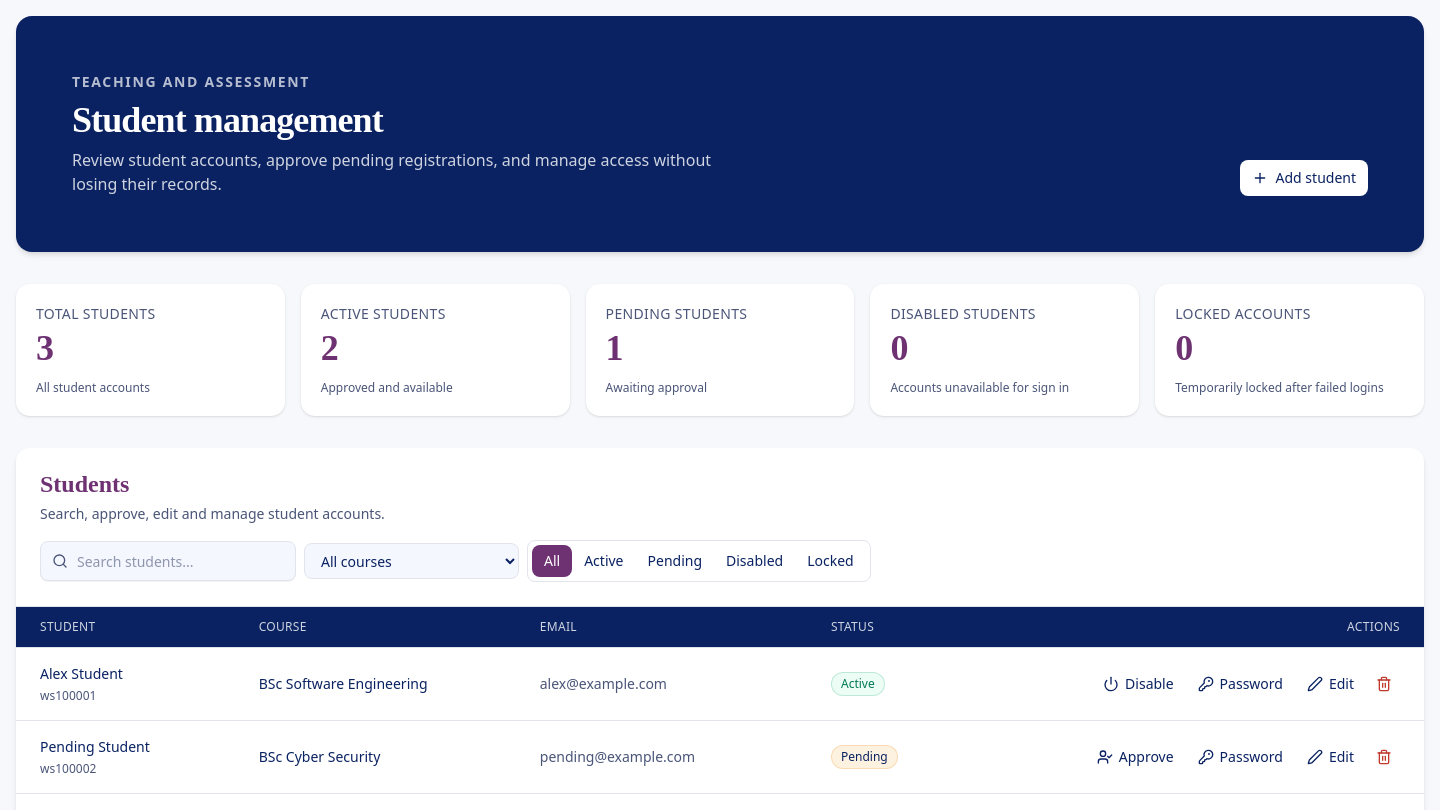
Test: StudentsPage › filters students by search, course, and account status
The width and height of the screenshot is (1440, 810).
Expected: the text "Alex Student" is shown, [40,664,123,683]
Select "BSc Software Engineering" in the dropdown named "Filter students by course". click: x=412, y=561
box: [304,543,519,579]
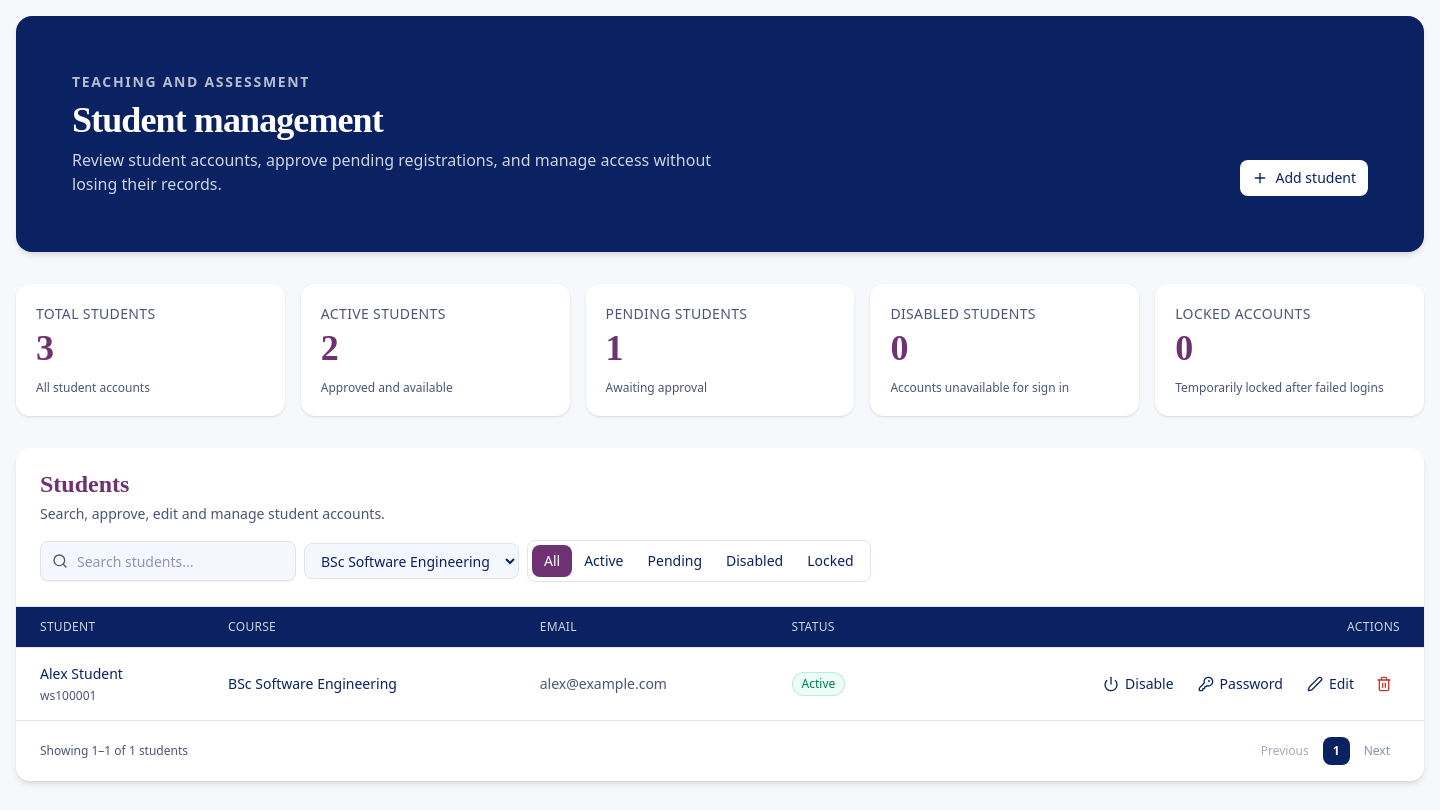
Expected: the text "Alex Student" is shown, [40,664,123,683]
Expected: the text "NoCourse Student" is not shown
Select "Unassigned" in the dropdown named "Filter students by course". click: x=412, y=561
box: [304,543,519,579]
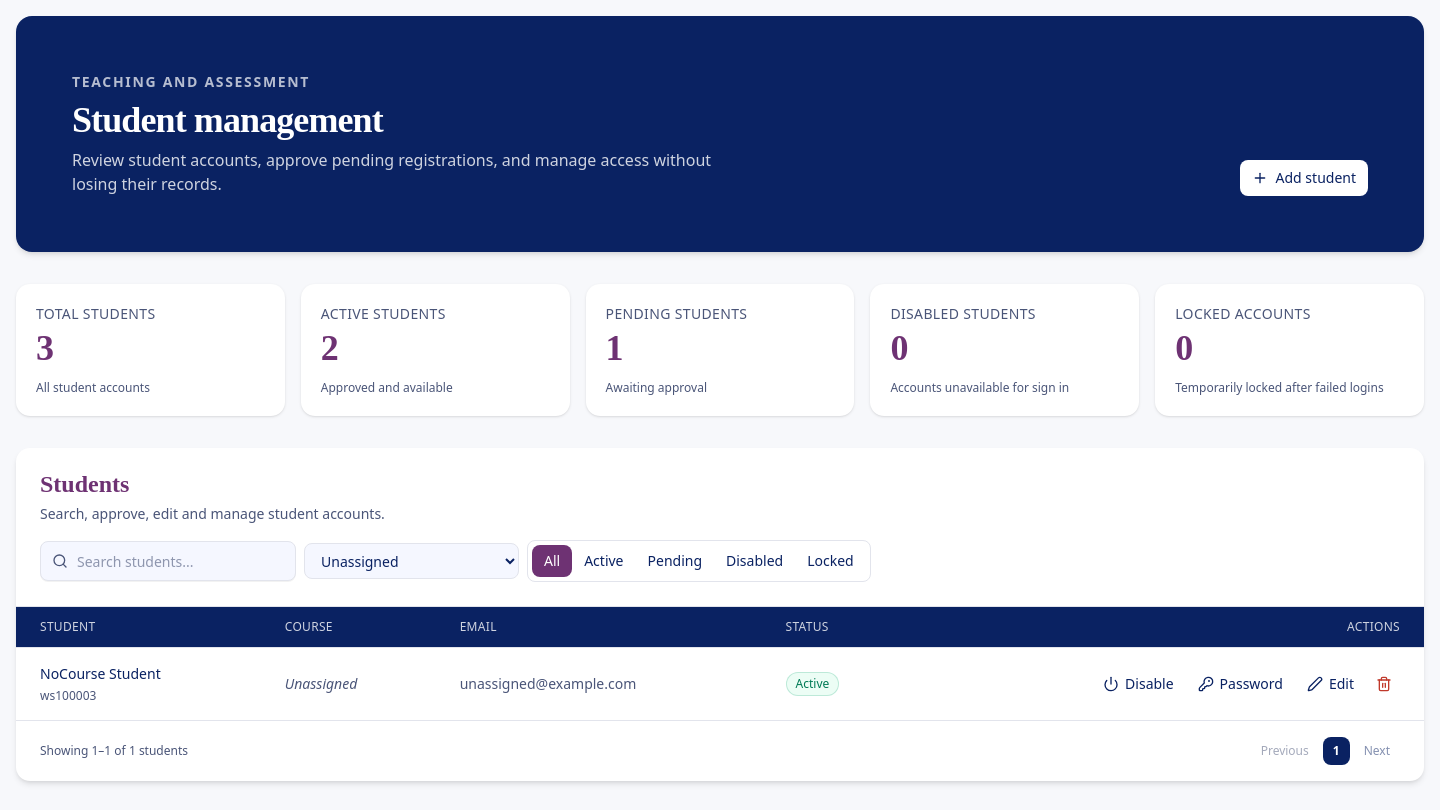
Now the text "Alex Student" is gone
Now the text "NoCourse Student" is shown, box [40,664,161,683]
Select "All courses" in the dropdown named "Filter students by course". click: x=412, y=561
box: [304,543,519,579]
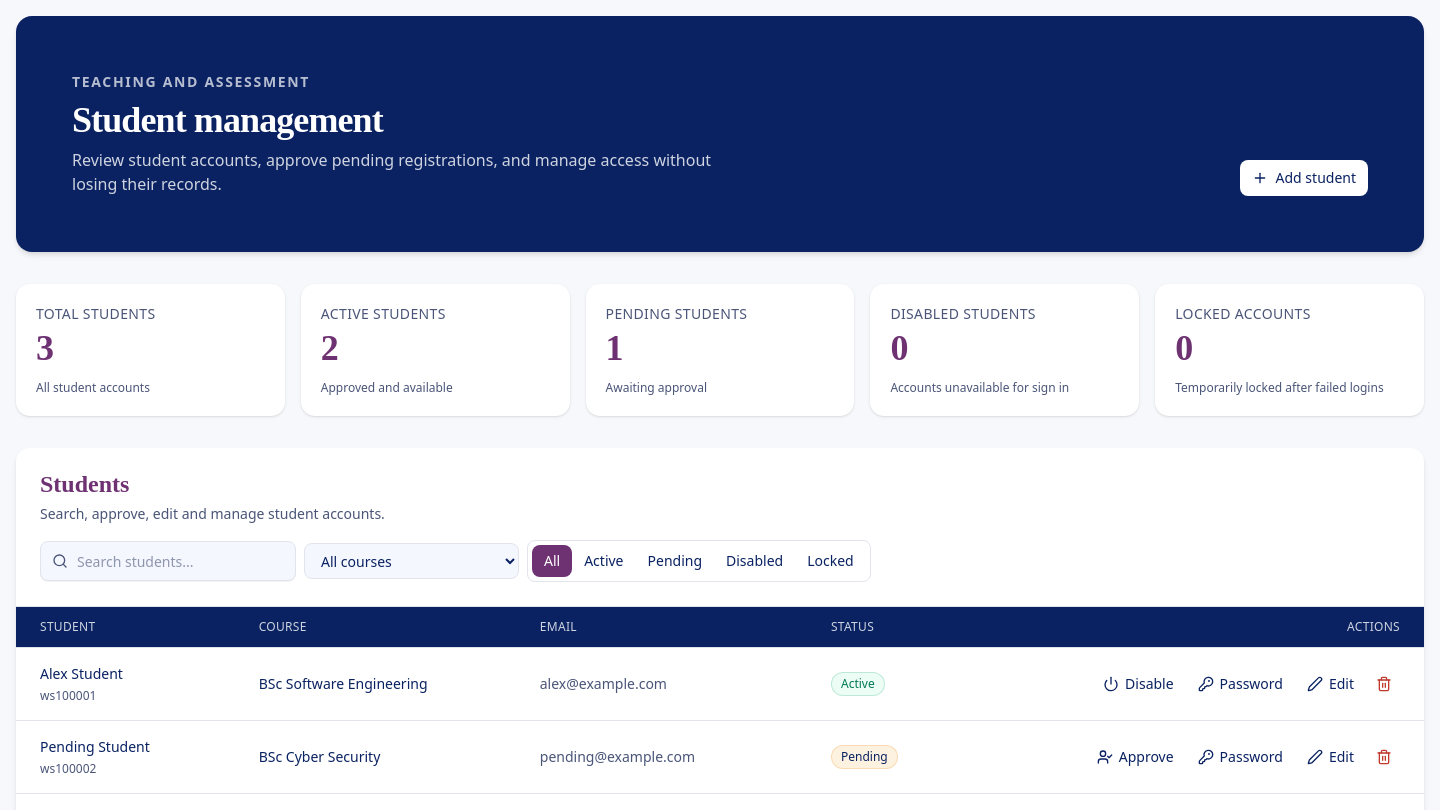
Click the button "pending". click: x=675, y=561
box: [636,545,714,577]
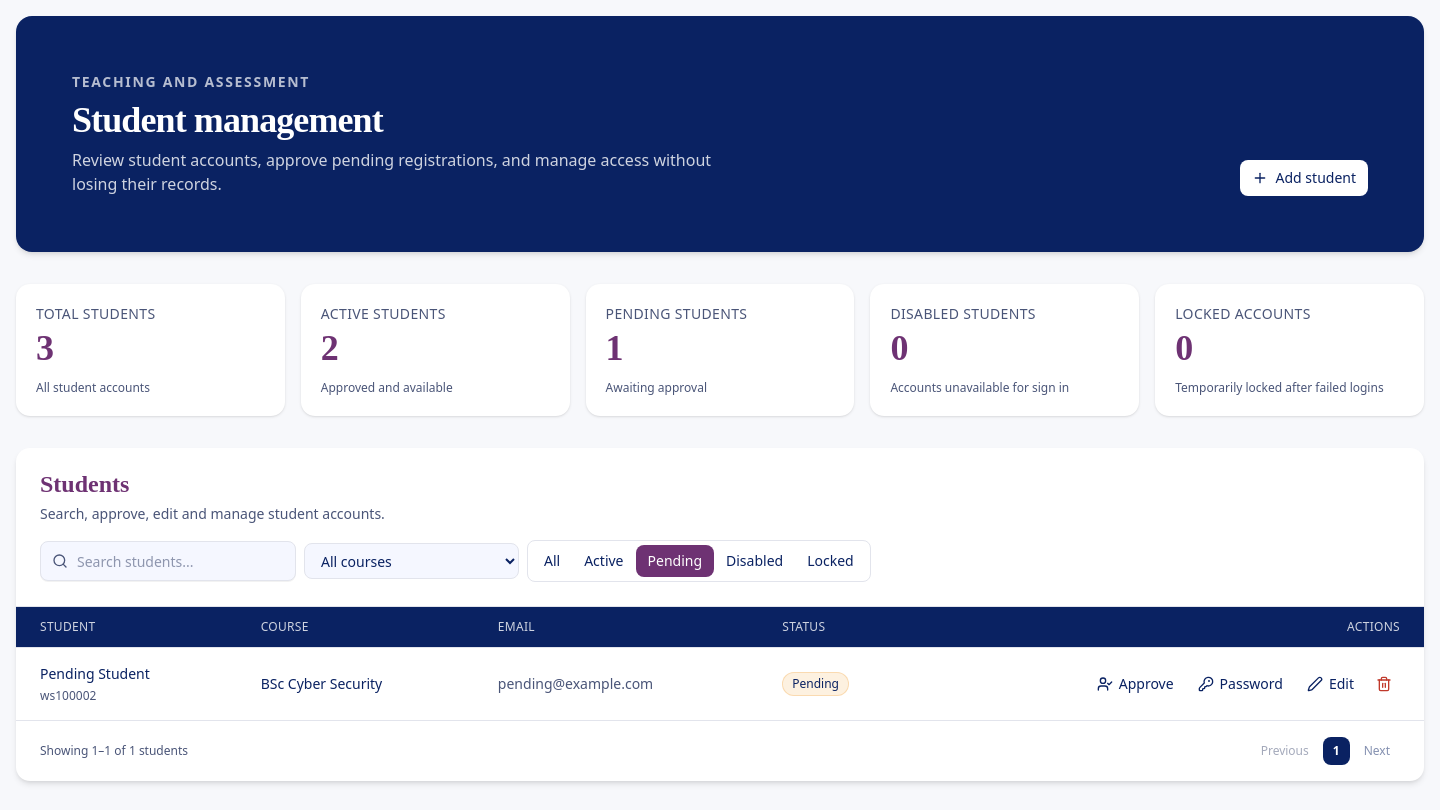
Now the text "Pending Student" is shown, box [40,664,150,683]
Now the text "Alex Student" is gone
Type "missing" into the field with placeholder "Search students...". click: x=168, y=561
box: [40,541,296,581]
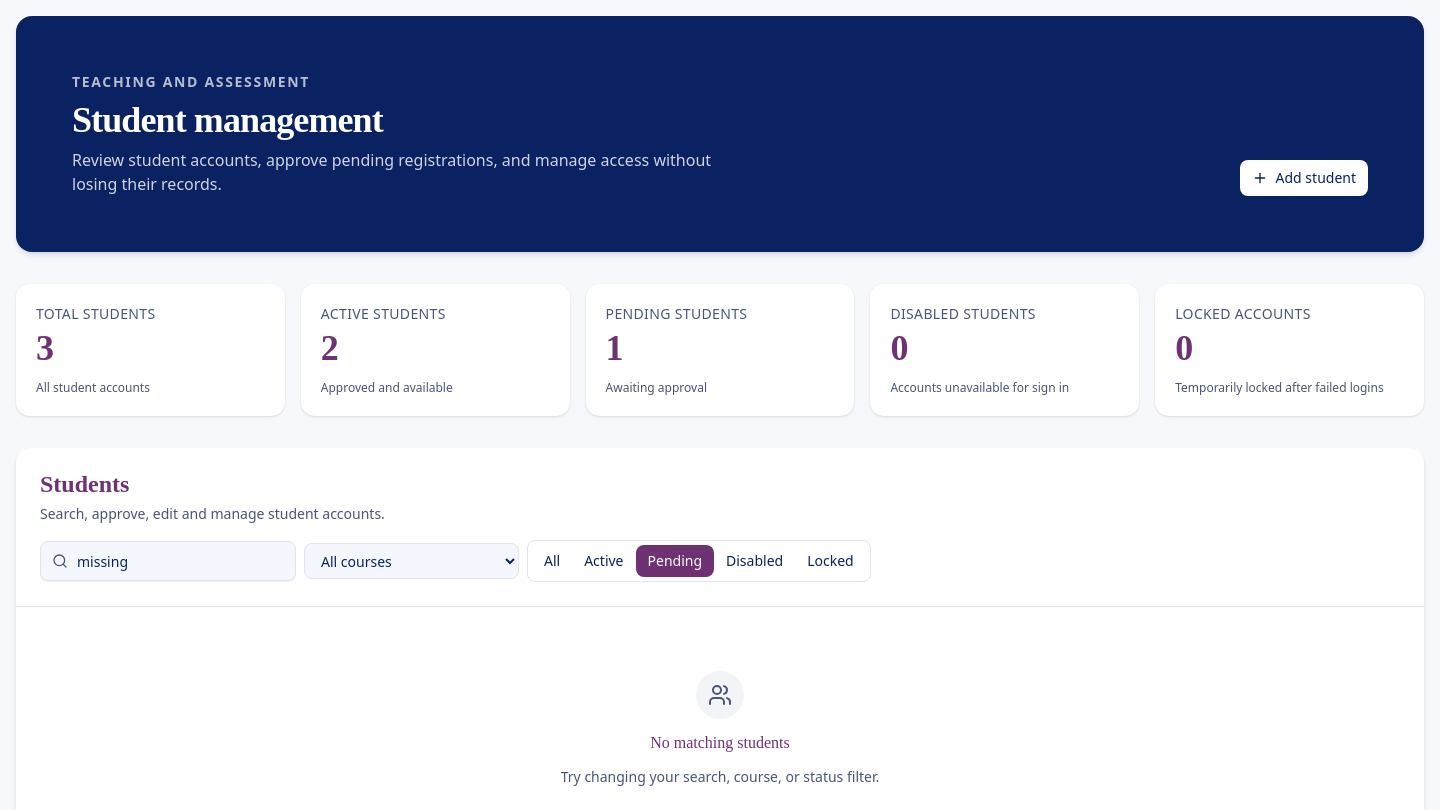
Now the heading "No matching students" is shown, box [650,731,790,755]
